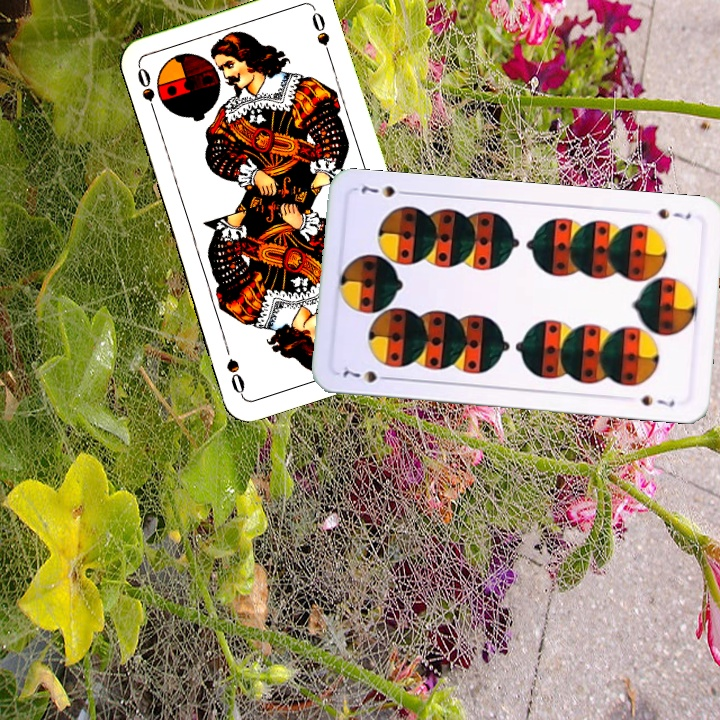S7: (339, 362, 395, 385), (653, 204, 693, 222)
SO: (133, 63, 160, 121)
